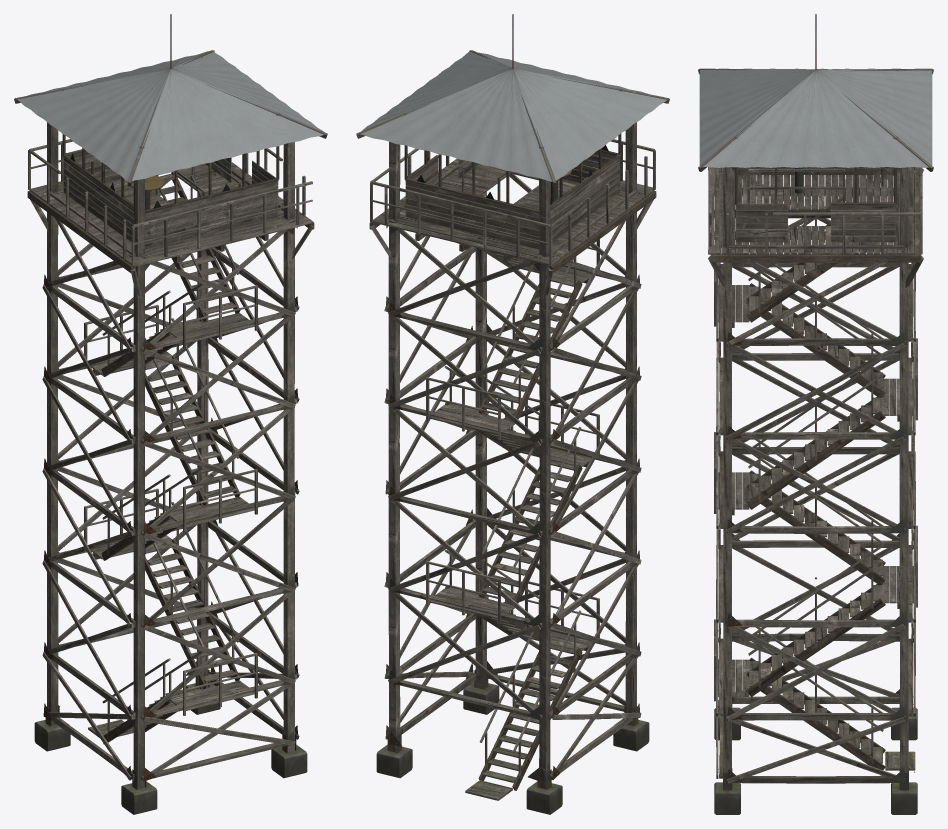
Rendered from lookout.glb.
3 views of the same model, side by side, from view 1: azimuth 30°, elevation 25°; view 2: azimuth 150°, elevation 25°; view 3: azimuth 270°, elevation 25° (orthographic).
Parts seen in each view (by area): view 1: lookout; view 2: lookout; view 3: lookout.
Boxes of the visible parts, x1=… form: lookout: x1=14, y1=14, x2=327, y2=814; lookout: x1=356, y1=14, x2=669, y2=814; lookout: x1=698, y1=14, x2=933, y2=814.
Size of the model in its own units: 5.48 by 19.46 by 5.48.
Materials: 1 (1 with a texture image).
